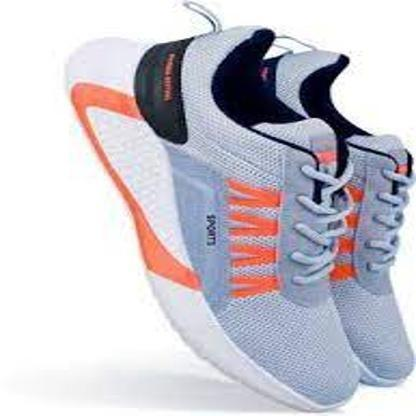not trash: (63, 0, 416, 410)
